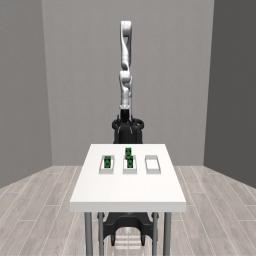cube1: (125, 147, 132, 160)
cube2: (128, 156, 134, 168)
cube3: (105, 155, 111, 168)
